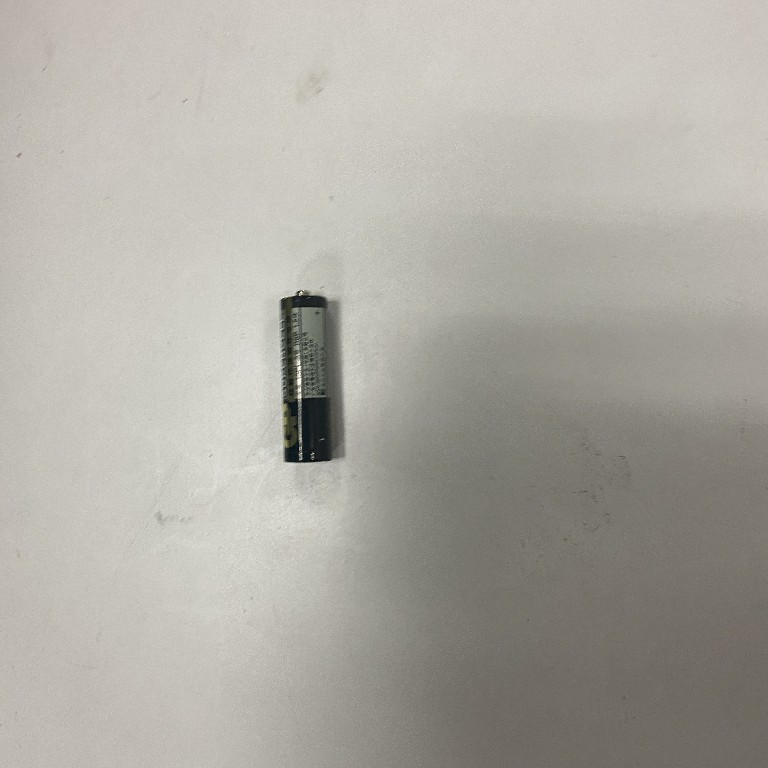charge: (277, 287, 342, 469)
